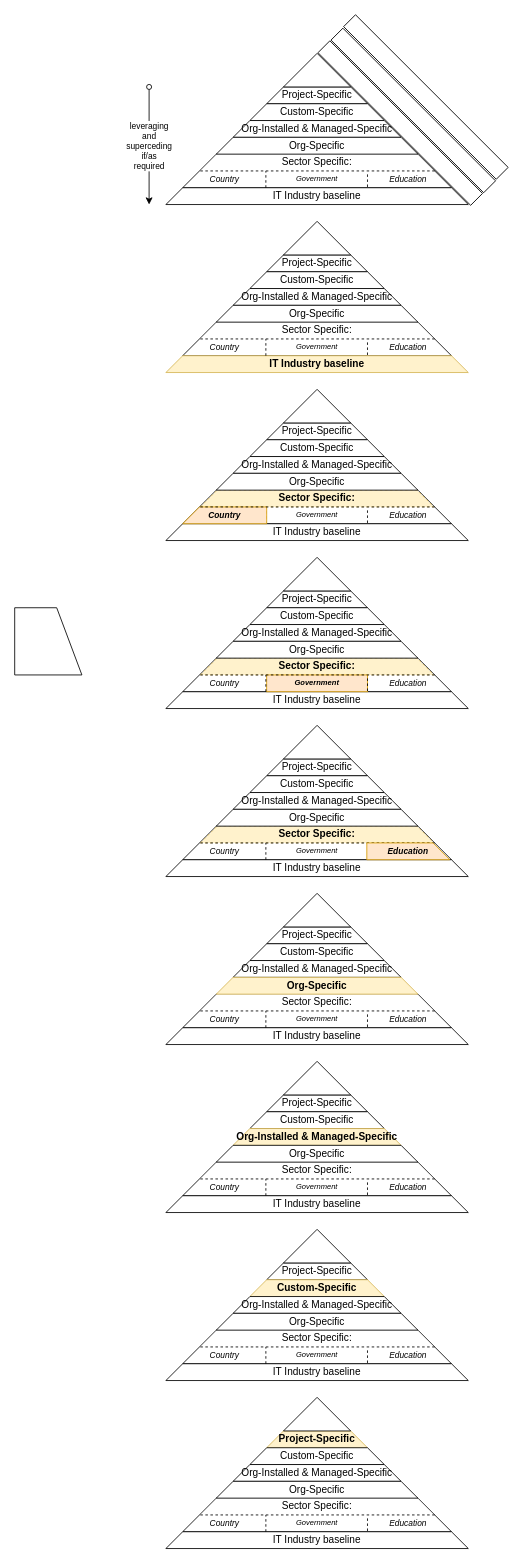
The diagram is 523 pixels wide and 1564 high, and some of its shapes have lost their labels. The box of each missing label's shape, as (x1, y1, x2, y2) in pixels:
ISO-25010: (343, 14, 508, 180)
ISO-25012: (330, 27, 496, 193)
ISO-25022: (317, 40, 483, 206)
ssdf: (14, 607, 82, 675)
